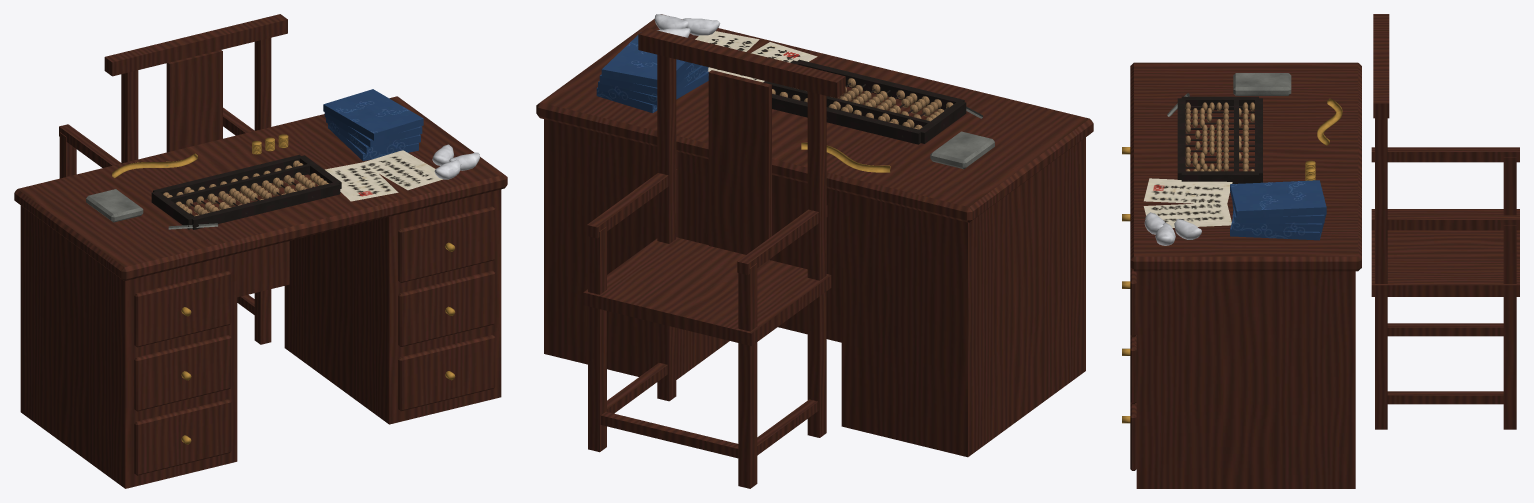
The model's file is abacus_desk.glb.
3 views of the same model, side by side, from view 1: azimuth 30°, elevation 25°; view 2: azimuth 150°, elevation 25°; view 3: azimuth 270°, elevation 25° (orthographic). The views are drawn at different scales.
Parts seen in each view (by area): view 1: Desk, Armchair, AbacusFrame, Ledgers, LedgerPages, AbacusBeads, Coins, InkStone, SilverIngots; view 2: Desk, Armchair, AbacusFrame, Ledgers, AbacusBeads, LedgerPages, InkStone, SilverIngots, Coins; view 3: Desk, Armchair, Ledgers, AbacusFrame, LedgerPages, AbacusBeads, InkStone, SilverIngots, Coins.
Part boxes in pixels (box(x1,y1,x2,y2)): Desk: box(14, 96, 507, 488); Armchair: box(59, 14, 287, 344); AbacusFrame: box(151, 154, 341, 229); Ledgers: box(323, 89, 423, 160); LedgerPages: box(325, 150, 442, 201); AbacusBeads: box(163, 160, 328, 216); Coins: box(112, 134, 455, 444); InkStone: box(86, 189, 218, 229); SilverIngots: box(432, 144, 479, 179); Desk: box(536, 14, 1093, 457); Armchair: box(583, 28, 845, 488); AbacusFrame: box(763, 59, 966, 144); Ledgers: box(596, 35, 708, 113); AbacusBeads: box(772, 78, 953, 129); LedgerPages: box(695, 31, 817, 82); InkStone: box(930, 106, 994, 169); SilverIngots: box(654, 14, 720, 37); Coins: box(801, 142, 890, 172); Desk: box(1130, 62, 1361, 488); Armchair: box(1371, 14, 1519, 429); Ledgers: box(1230, 180, 1326, 240); AbacusFrame: box(1177, 96, 1262, 183); LedgerPages: box(1143, 178, 1232, 227); AbacusBeads: box(1185, 102, 1254, 171); InkStone: box(1167, 73, 1291, 116); SilverIngots: box(1144, 212, 1201, 245); Coins: box(1122, 98, 1342, 423).
Size of what is drawn, in the model's own units: 1.45 by 1.14 by 1.24.
Materials: 8 (8 with a texture image).
